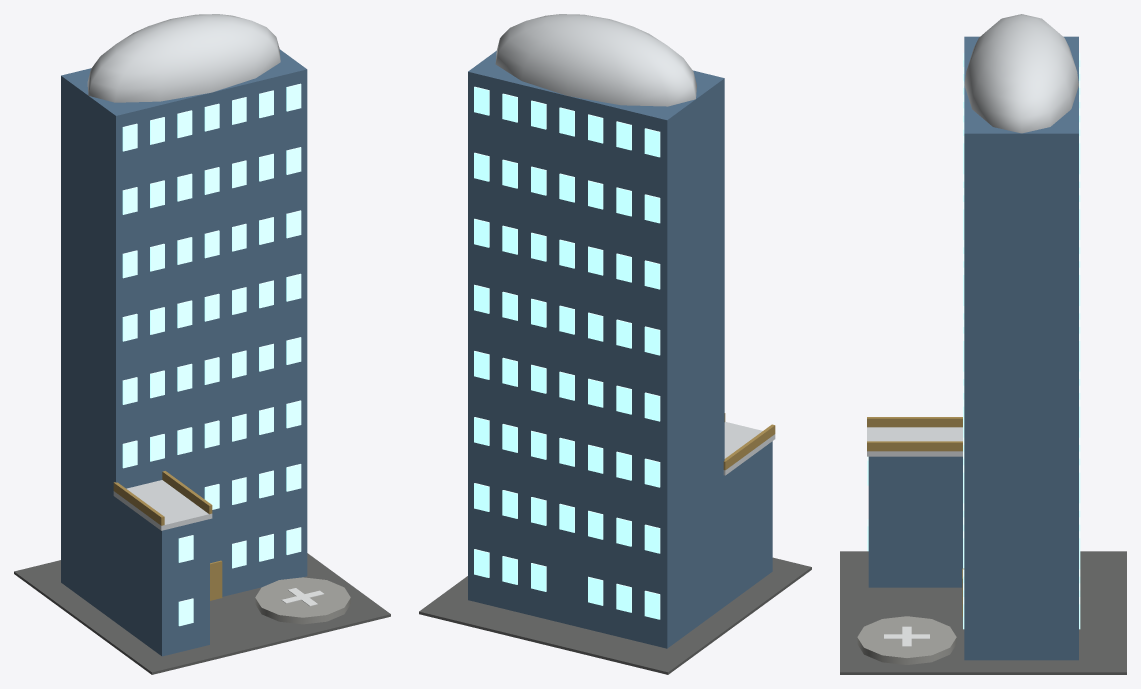
Rendered from bld_special_hospital_a10.glb.
3 views of the same model, side by side, from view 1: azimuth 30°, elevation 25°; view 2: azimuth 150°, elevation 25°; view 3: azimuth 270°, elevation 25° (orthographic). The views are drawn at different scales.
Parts seen in each view (by area): view 1: body; view 2: body; view 3: body.
Boxes of the visible parts, x1=… form: body: x1=14, y1=14, x2=390, y2=674; body: x1=419, y1=14, x2=811, y2=674; body: x1=840, y1=14, x2=1126, y2=674.
Size of what is drawn, in the model's own units: 15 by 33.55 by 15.
